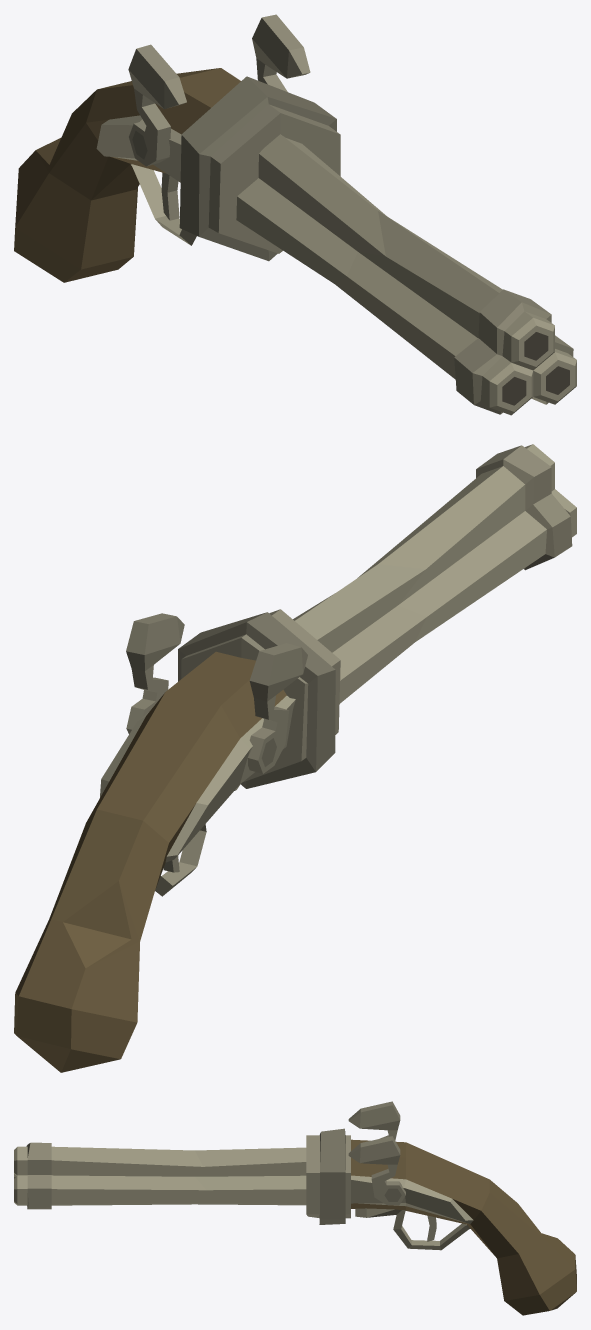
The model's file is Pistol_5.fbx.
3 views of the same model, one above another, from view 1: azimuth 30°, elevation 25°; view 2: azimuth 150°, elevation 25°; view 3: azimuth 270°, elevation 25° (orthographic). The views are drawn at different scales.
Visible parts, largest first — view 1: Pistol_5; view 2: Pistol_5; view 3: Pistol_5.
Part boxes in pixels (<box>): Pistol_5: <box>14,14,576,415</box>; Pistol_5: <box>14,444,576,1072</box>; Pistol_5: <box>14,1101,576,1315</box>.
Bounding box in the file's own units: 9.27 × 20.5 × 55.56.
